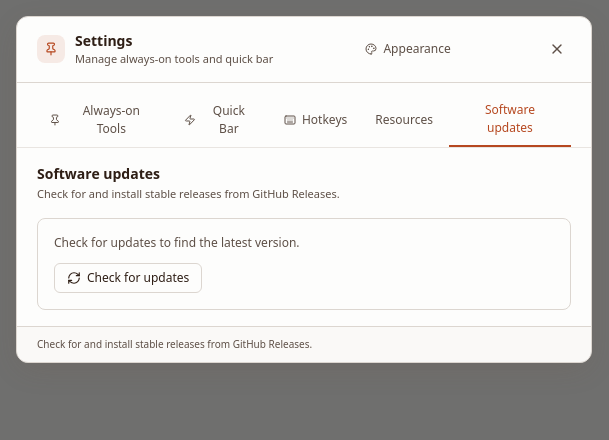
Test case: software update status › keeps an available update visible when installation fails
Click the button "Check for updates": {"x": 128, "y": 278} 54,263 -> 202,293
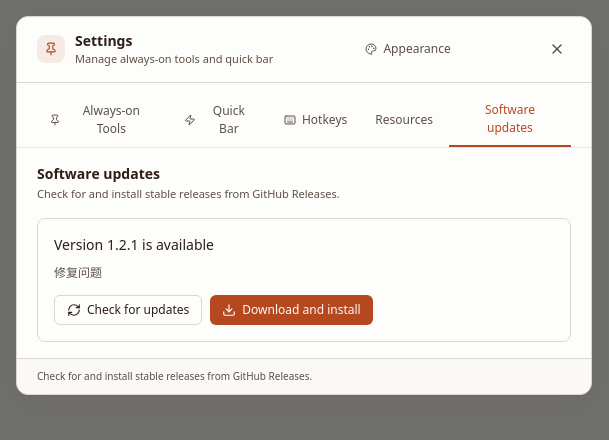
Click the button "Download and install": {"x": 292, "y": 310} 210,294 -> 373,324
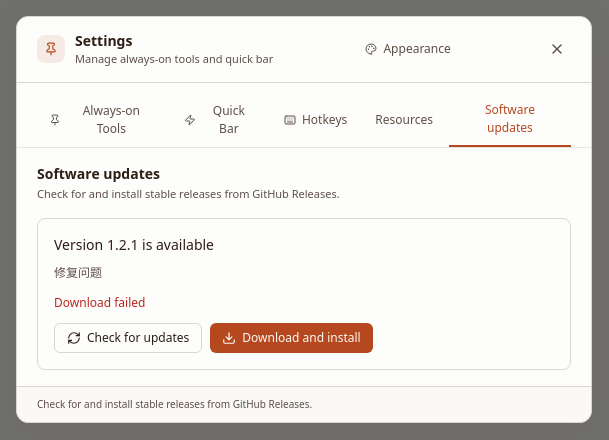
Expected: the button "Download and install" is enabled, 210,322 -> 373,352
Expected: the text "Download failed" is shown, 54,294 -> 145,310
